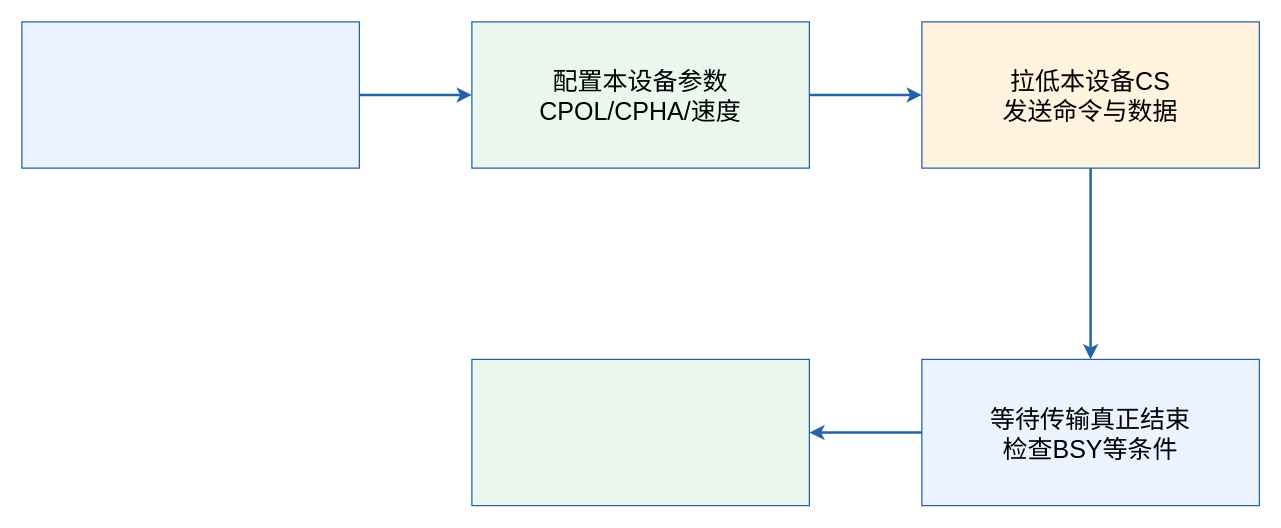
Some shapes in this 1281 by 528 pixel diagram are drawn without their labels. Here are the shapes that lost their labels. From the top down, the box of each, then its label:
(21, 21, 359, 168): 取得总线互斥锁 检查设备是否就绪
(471, 358, 809, 506): 释放CS再解锁 错误路径也需收尾
